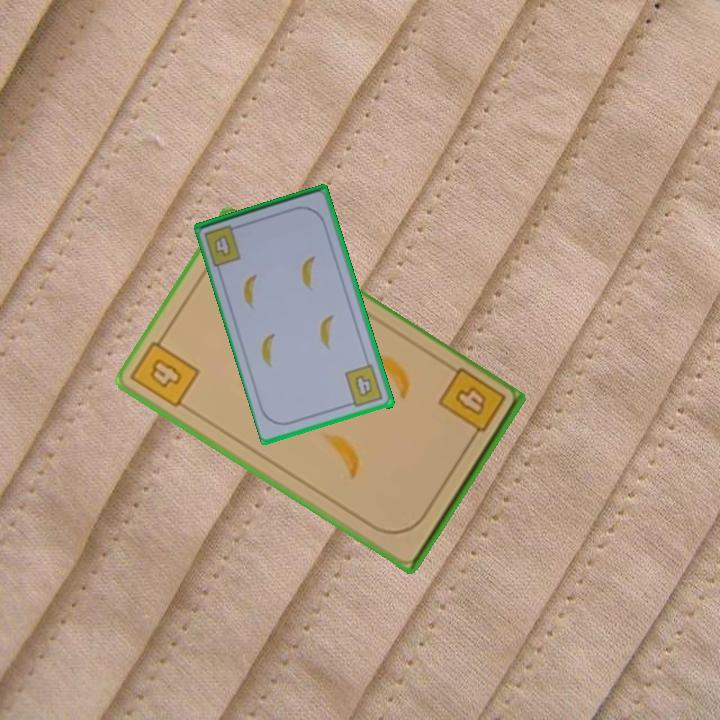4b: (434, 365, 509, 447), (128, 330, 202, 411), (342, 362, 386, 410), (211, 234, 234, 259)
